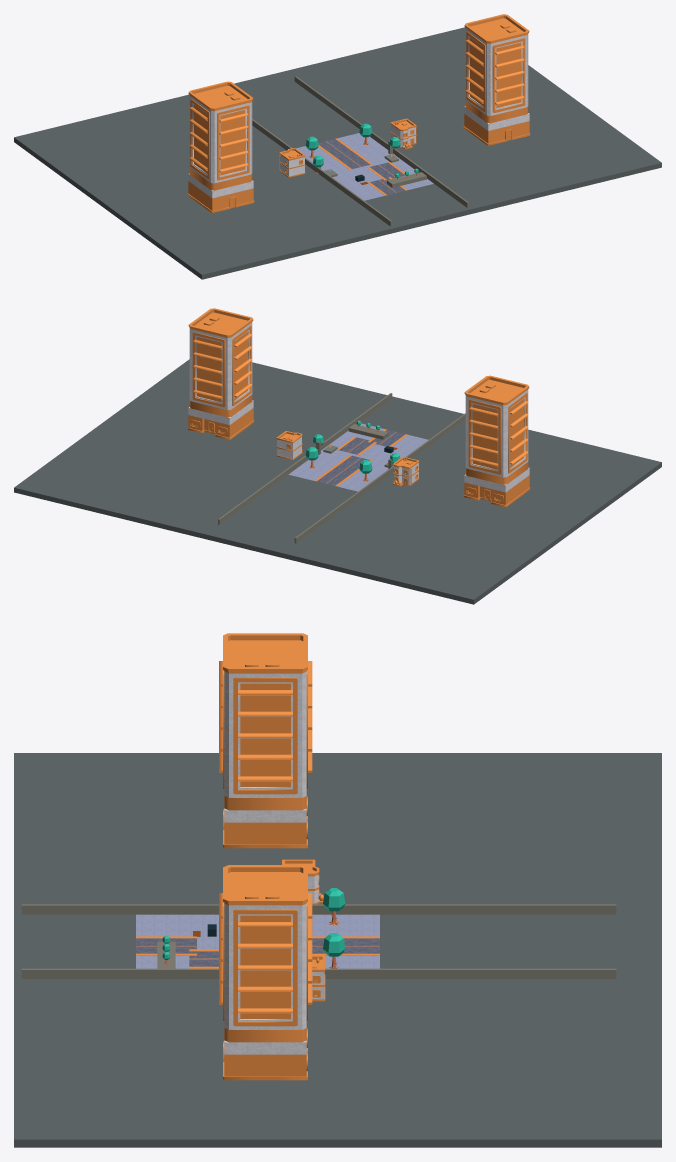
File: Street-3.obj
The picture shows the model from 3 angles, top to bottom: view 1: azimuth 30°, elevation 25°; view 2: azimuth 150°, elevation 25°; view 3: azimuth 270°, elevation 25°; orthographic projection. The views are drawn at different scales.
Parts seen in each view (by area): view 1: surface1, surface6, surface5, surface2, surface4, surface14, surface10, surface13; view 2: surface1, surface6, surface5, surface4, surface2, surface14, surface10, surface13; view 3: surface1, surface6, surface4, surface5, surface2, surface14, surface10, surface13.
Boxes of the visible parts, x1,y1,x2,y2 form: surface1: (14, 27, 661, 279); surface6: (187, 14, 530, 212); surface5: (188, 28, 529, 198); surface2: (296, 133, 433, 200); surface4: (252, 76, 468, 226); surface14: (319, 139, 402, 194); surface10: (305, 123, 418, 177); surface13: (318, 138, 407, 195); surface1: (14, 359, 661, 604); surface6: (187, 308, 530, 507); surface5: (188, 322, 529, 492); surface4: (218, 393, 465, 543); surface2: (288, 423, 428, 491); surface14: (319, 430, 402, 485); surface10: (305, 420, 400, 473); surface13: (314, 429, 407, 486); surface1: (14, 753, 661, 1147); surface6: (219, 633, 325, 1080); surface4: (21, 904, 616, 978); surface5: (224, 671, 324, 1054); surface2: (136, 914, 379, 968); surface14: (136, 940, 379, 964); surface10: (162, 888, 345, 959); surface13: (136, 936, 379, 968).
Bounding box in the file's own units: 120 × 27.12 × 85.
